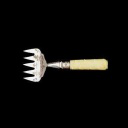Fork: (16, 43, 119, 87)
